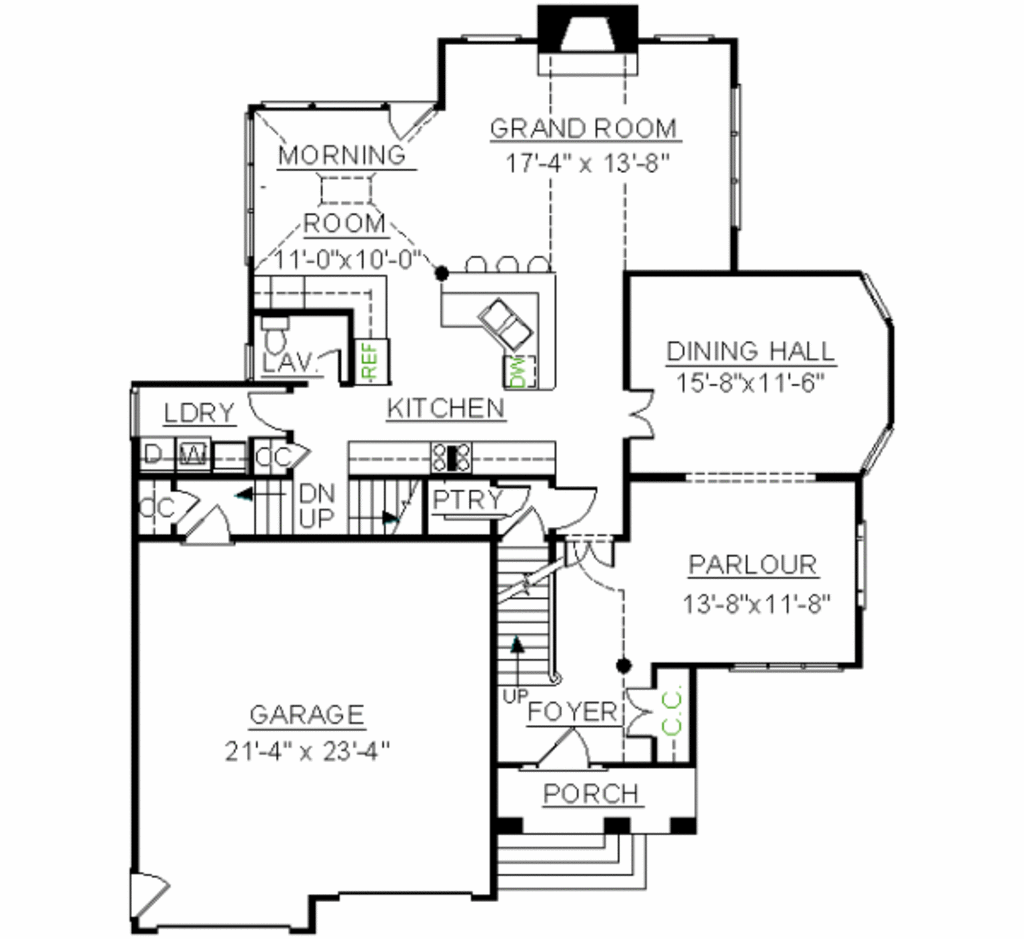door: (532, 729, 588, 772), (382, 101, 438, 143), (245, 390, 297, 435), (182, 504, 239, 544), (127, 873, 174, 920), (624, 385, 660, 445), (552, 483, 599, 528), (622, 684, 658, 738), (501, 508, 546, 549)
kitchen_bar: (433, 251, 563, 396)
large_sink: (257, 314, 293, 357)
stairs: (238, 473, 424, 544), (495, 542, 566, 708)
twin_sink: (479, 299, 535, 358)
window: (239, 114, 258, 270), (726, 82, 743, 230), (720, 662, 843, 677), (856, 523, 871, 616), (650, 31, 719, 50), (460, 31, 524, 49), (126, 385, 142, 446)
